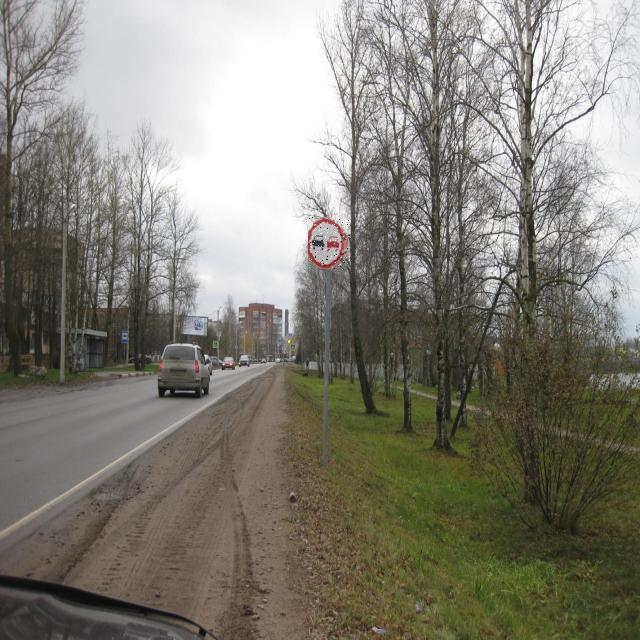no overtaking: (308, 215, 350, 270)
